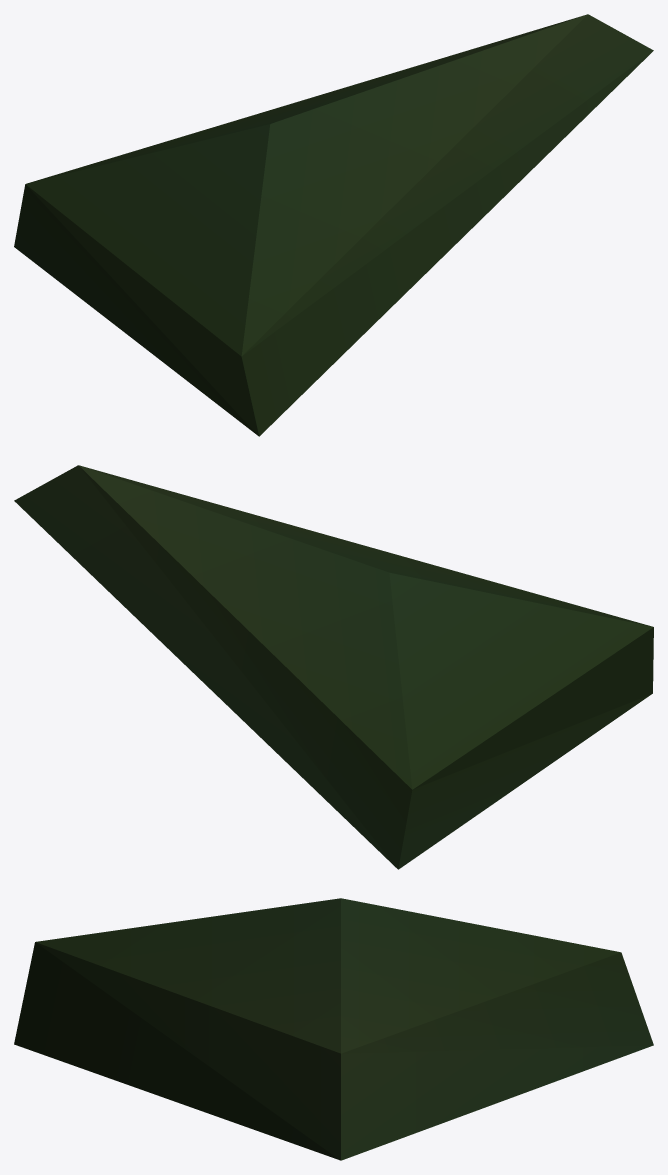
The model's file is leaf.glb.
3 renders of one model, top to bottom at view 1: azimuth 30°, elevation 25°; view 2: azimuth 150°, elevation 25°; view 3: azimuth 270°, elevation 25°, orthographic. The views are drawn at different scales.
Parts seen in each view (by area): view 1: leaf.glb; view 2: leaf.glb; view 3: leaf.glb.
Boxes of the visible parts, x1,y1,x2,y2 form: leaf.glb: (14,14,653,436); leaf.glb: (14,465,653,869); leaf.glb: (14,898,653,1160).
Size of the model in its own units: 1 by 0.3875 by 0.8211.
